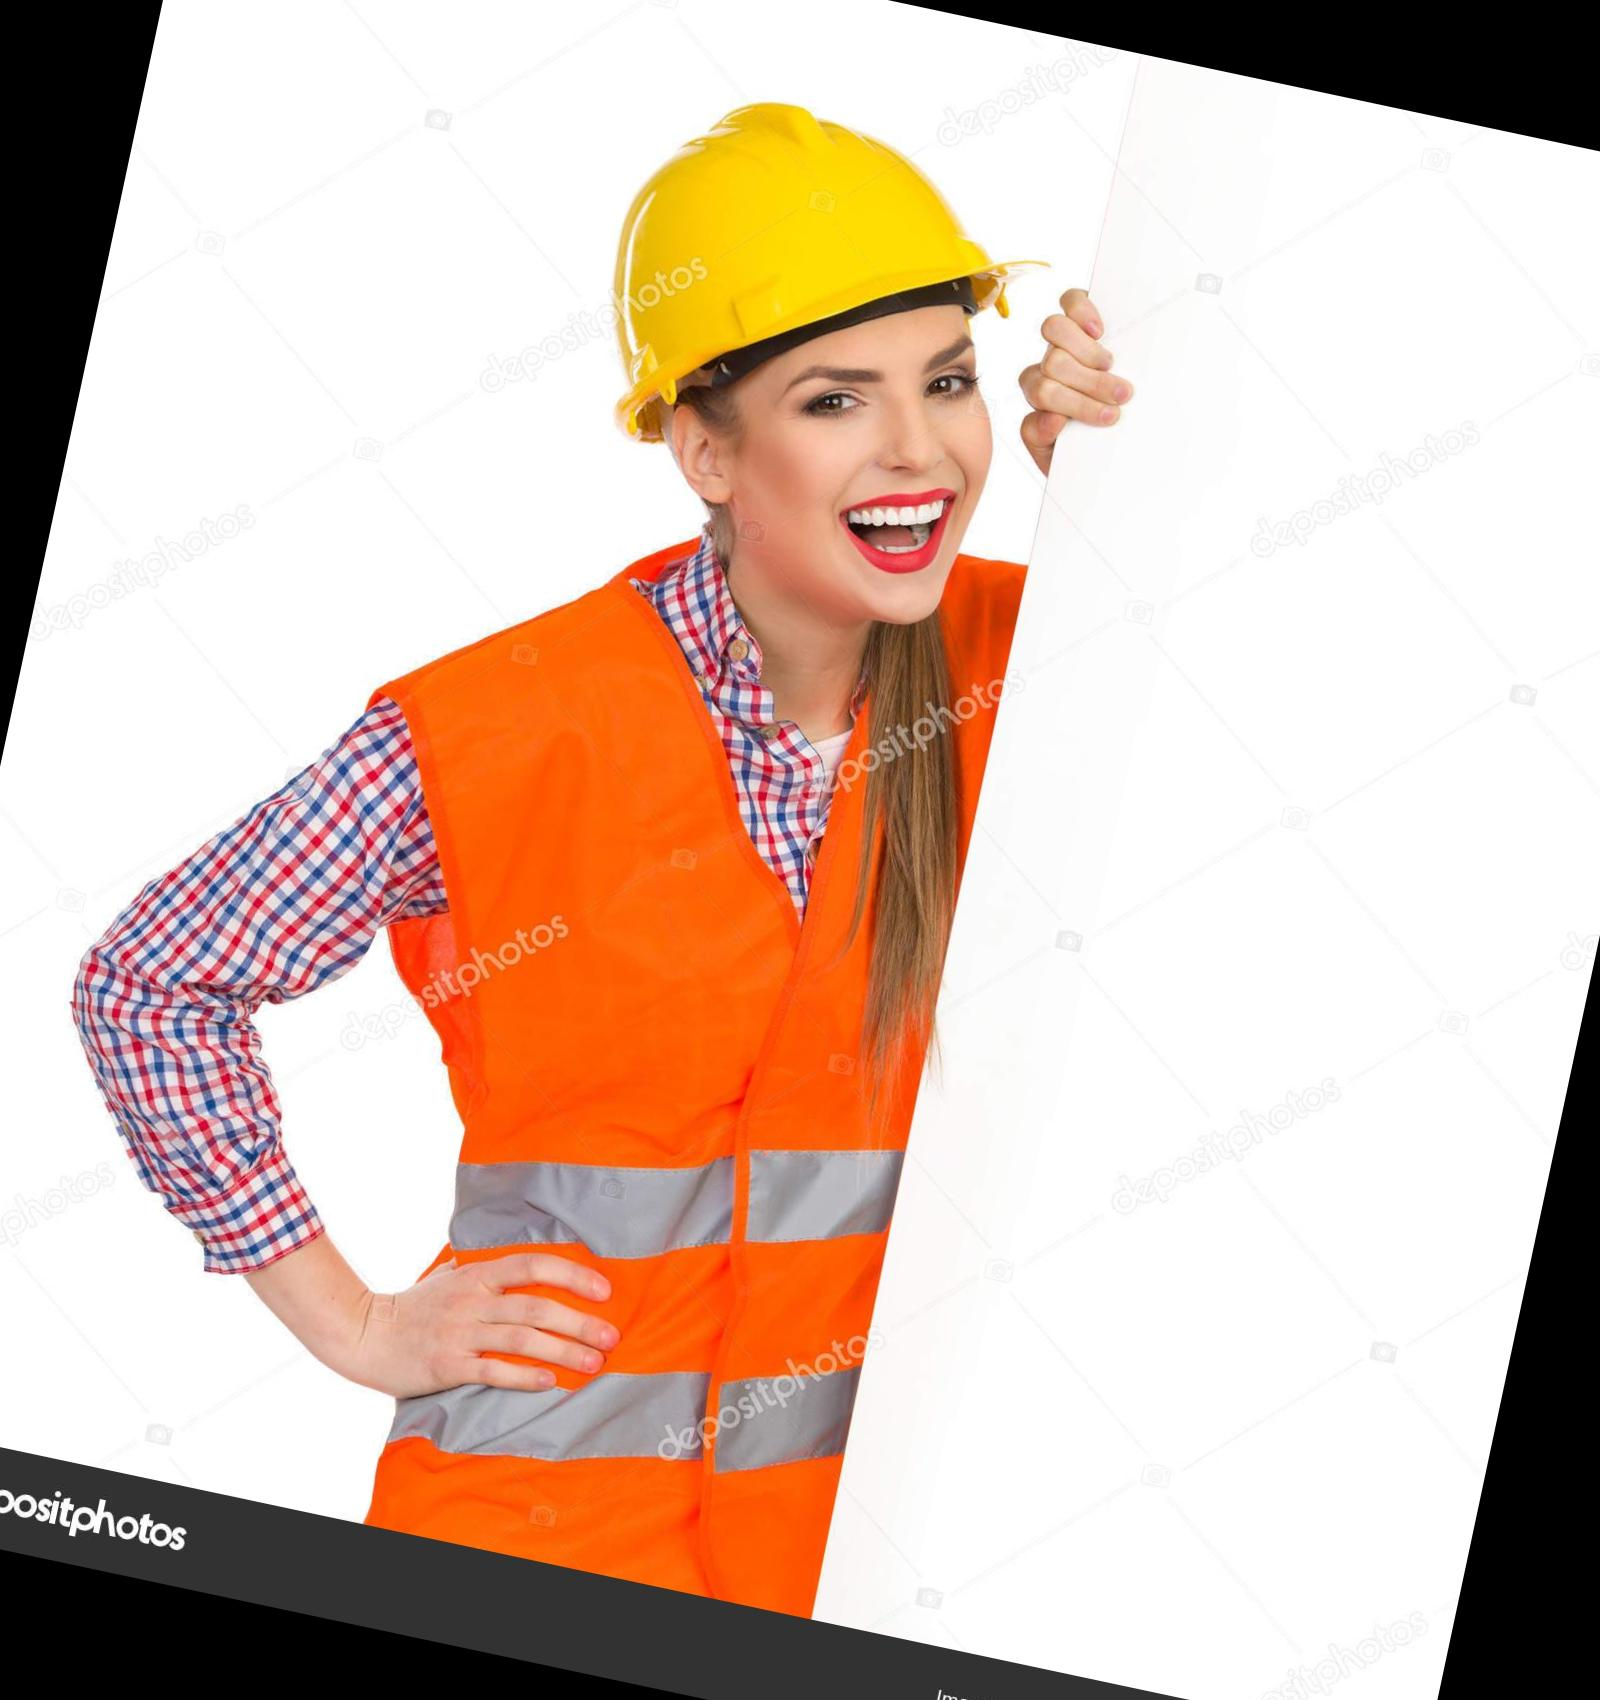Vest: (241, 464, 1015, 1556)
